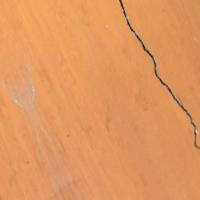crack: (115, 0, 199, 165)
